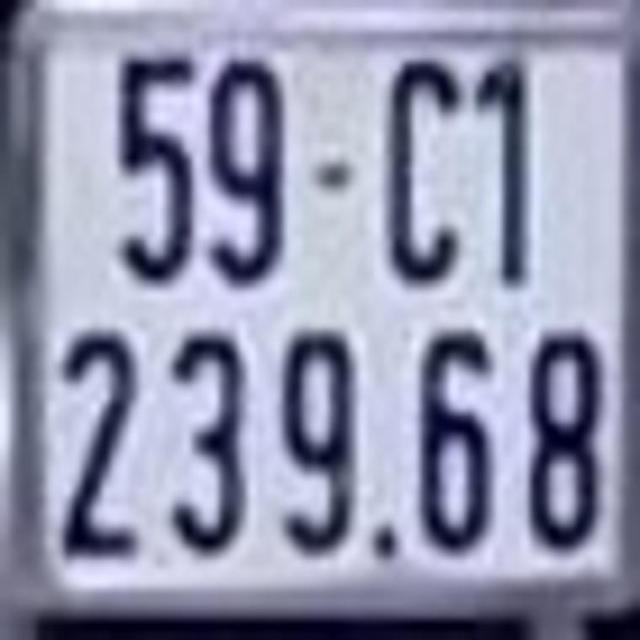1: (475, 61, 546, 286)
2: (60, 328, 144, 562)
3: (168, 328, 251, 553)
5: (120, 51, 203, 276)
6: (419, 327, 490, 547)
8: (529, 326, 601, 548)
9: (280, 329, 360, 553), (214, 52, 286, 292)
C: (382, 52, 464, 284)
